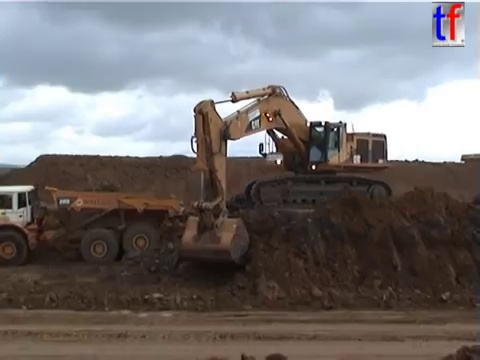excavator: (177, 82, 395, 268)
truck: (1, 182, 201, 268), (458, 152, 480, 173)
